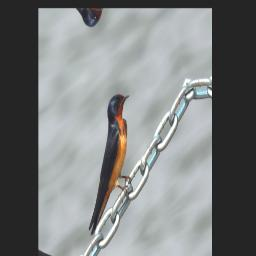Swallow: (64, 84, 154, 240)
